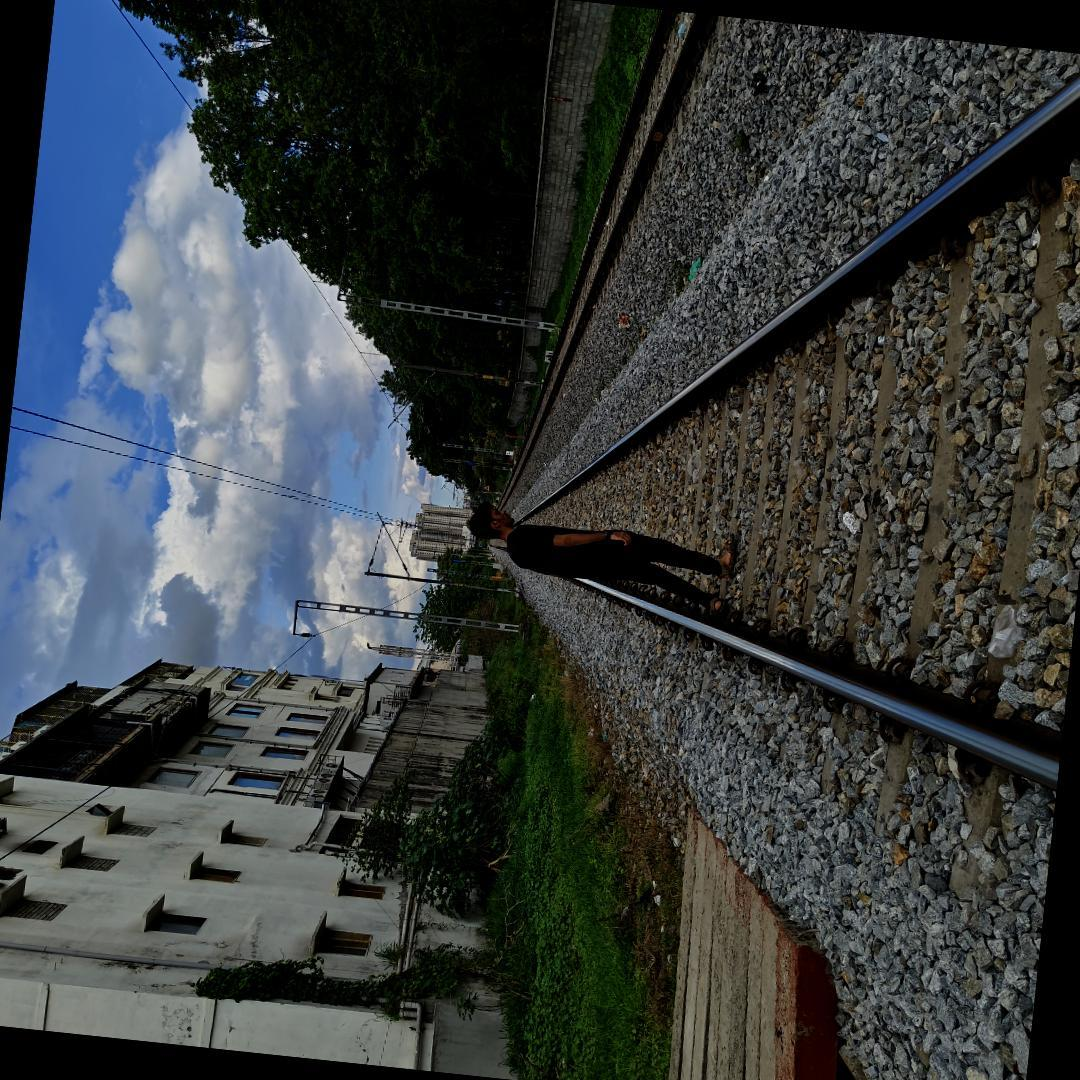standing: (459, 498, 766, 631)
